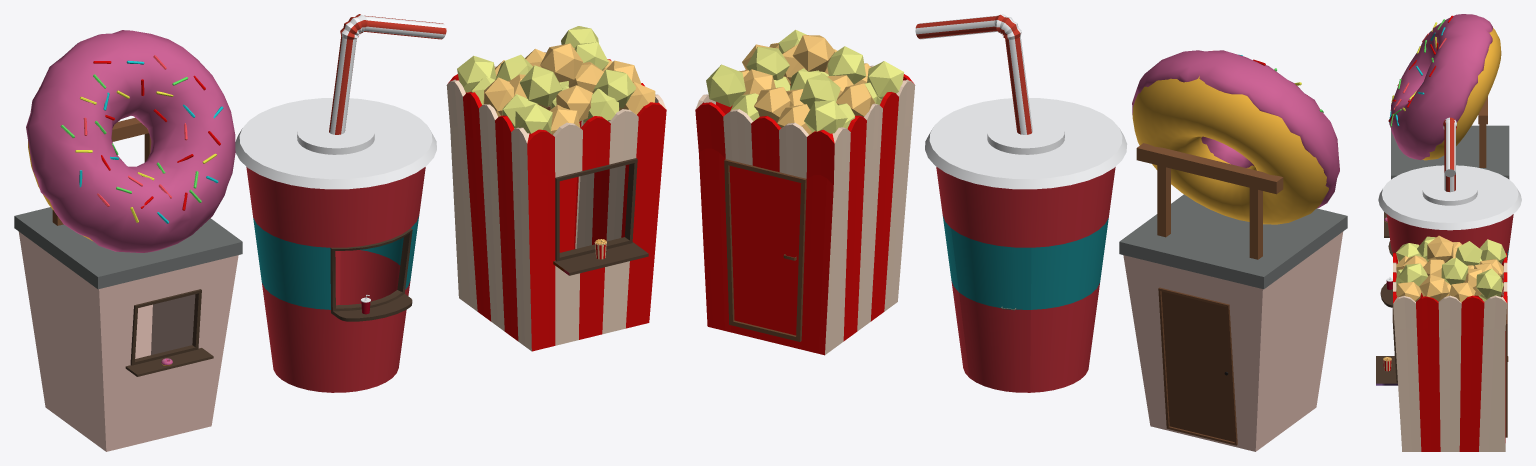
The model's file is Small_cafes.fbx.
3 renders of one model, left to right at view 1: azimuth 30°, elevation 25°; view 2: azimuth 150°, elevation 25°; view 3: azimuth 270°, elevation 25°, orthographic. The views are drawn at different scales.
Parts seen in each view (by area): view 1: Donut_Cafe, Popcorn_Cafe, Drink_Cafe; view 2: Donut_Cafe, Popcorn_Cafe, Drink_Cafe, Popcorn_Cafe_door, Drink_Cafe_door, Donut_Cafe_door; view 3: Popcorn_Cafe, Donut_Cafe, Drink_Cafe.
Boxes of the visible parts, left/top/right/bottom form: Donut_Cafe: left=14, top=30, right=242, bottom=451; Popcorn_Cafe: left=446, top=26, right=666, bottom=351; Drink_Cafe: left=235, top=14, right=446, bottom=392; Donut_Cafe: left=1119, top=50, right=1347, bottom=451; Popcorn_Cafe: left=695, top=29, right=915, bottom=355; Drink_Cafe: left=915, top=14, right=1127, bottom=392; Popcorn_Cafe_door: left=729, top=166, right=801, bottom=335; Drink_Cafe_door: left=951, top=228, right=1031, bottom=390; Donut_Cafe_door: left=1161, top=291, right=1234, bottom=441; Popcorn_Cafe: left=1376, top=235, right=1507, bottom=451; Donut_Cafe: left=1384, top=14, right=1509, bottom=237; Drink_Cafe: left=1378, top=117, right=1521, bottom=307.
Bounding box in the file's own units: 852 × 505 × 255.
